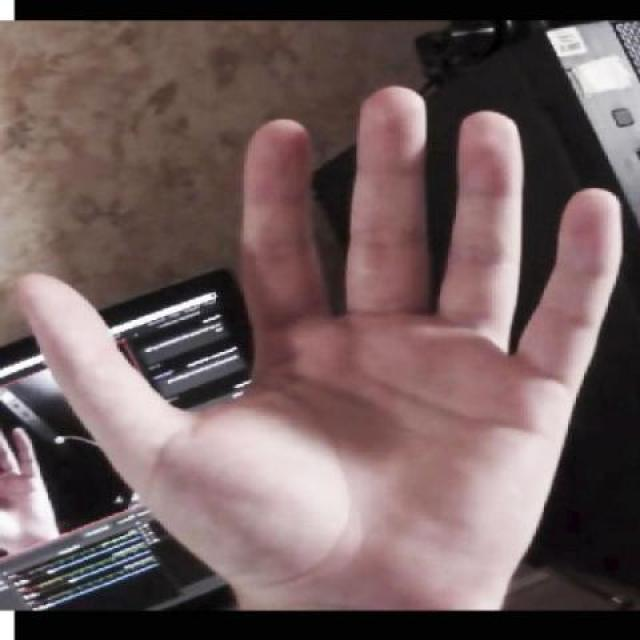Open Hand: (17, 78, 630, 609)
